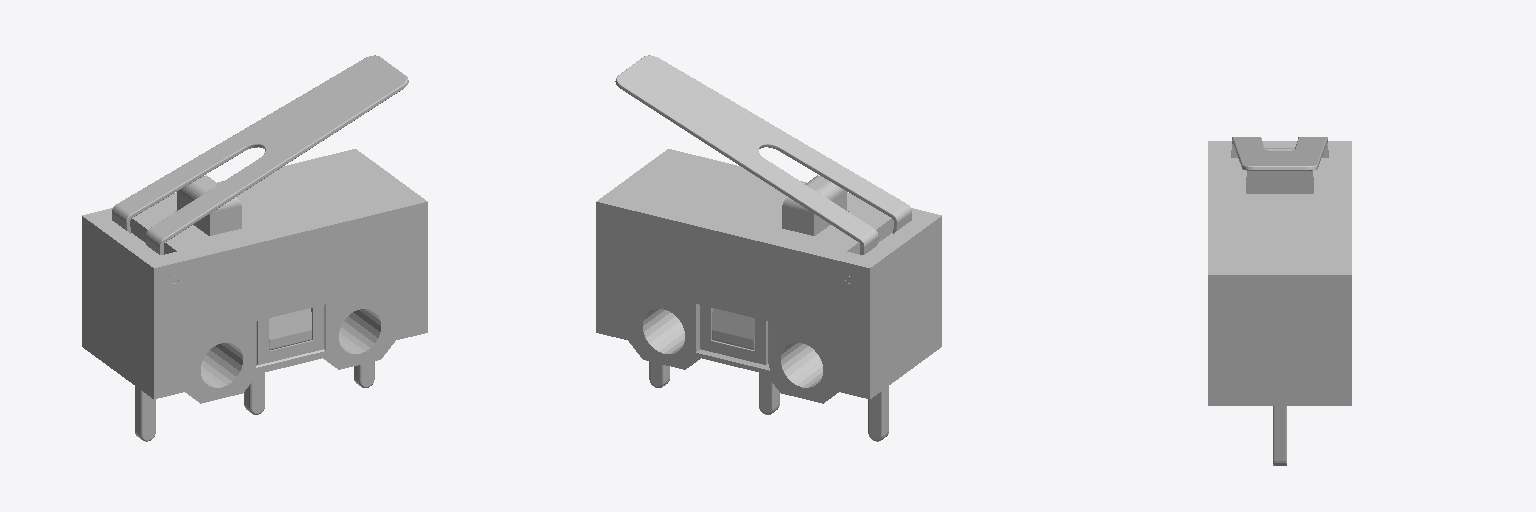
Rendered from Micro.obj.
The picture shows the model from 3 angles: view 1: azimuth 30°, elevation 25°; view 2: azimuth 150°, elevation 25°; view 3: azimuth 270°, elevation 25°; orthographic projection.
Parts seen in each view (by area): view 1: Body1:1, Body1, Body1:6, Body1:5, Body1:3, Body1:2; view 2: Body1:1, Body1, Body1:6, Body1:5, Body1:3, Body1:2; view 3: Body1:1, Body1, Body1:6, Body1:5, Body1:4.
Part boxes in pixels (x1,y1,x2,y2): Body1:1: (82, 149, 427, 364); Body1: (82, 280, 427, 403); Body1:6: (112, 55, 408, 283); Body1:5: (177, 175, 241, 235); Body1:3: (135, 386, 155, 441); Body1:2: (244, 373, 264, 414); Body1:1: (596, 149, 941, 364); Body1: (596, 280, 941, 403); Body1:6: (615, 55, 911, 283); Body1:5: (782, 175, 846, 235); Body1:3: (868, 386, 888, 441); Body1:2: (759, 373, 779, 414); Body1:1: (1208, 141, 1351, 351); Body1: (1208, 352, 1351, 405); Body1:6: (1232, 137, 1327, 170); Body1:5: (1247, 148, 1312, 193); Body1:4: (1273, 406, 1286, 465).
Size of the model in its own units: 1.3 by 1.41 by 0.59.